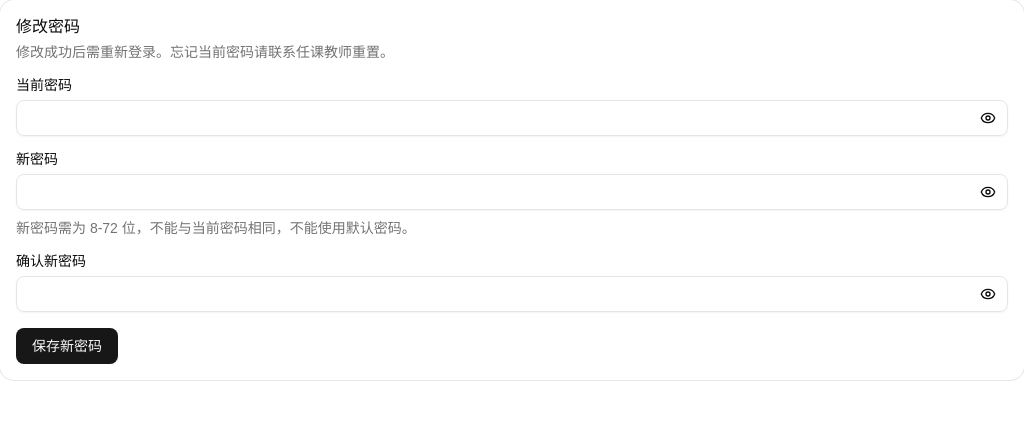
student PasswordChangeForm › hangs a 400 wrong current password and does not logout
In the password field labelled "当前密码": (512, 118) [16,100,1008,136], type "wrongpass"
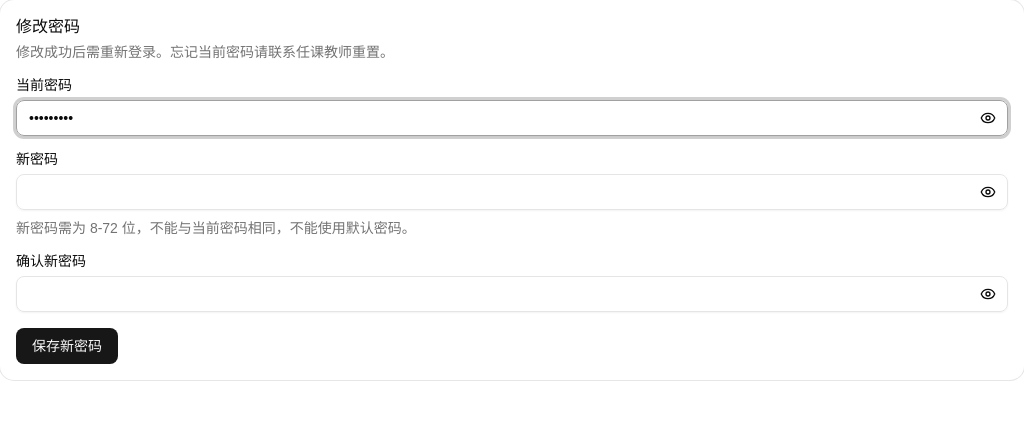
In the password field labelled "新密码": (512, 192) [16,174,1008,210], type "newpass12"
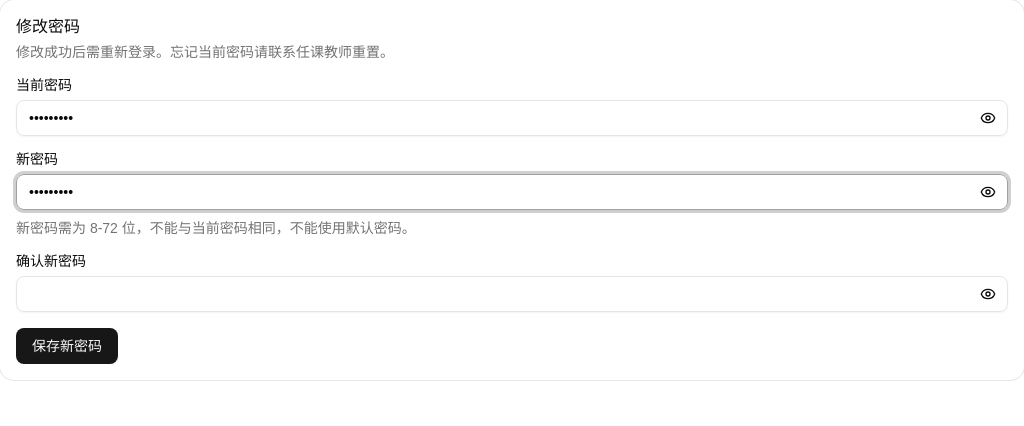
In the password field labelled "确认新密码": (512, 294) [16,276,1008,312], type "newpass12"
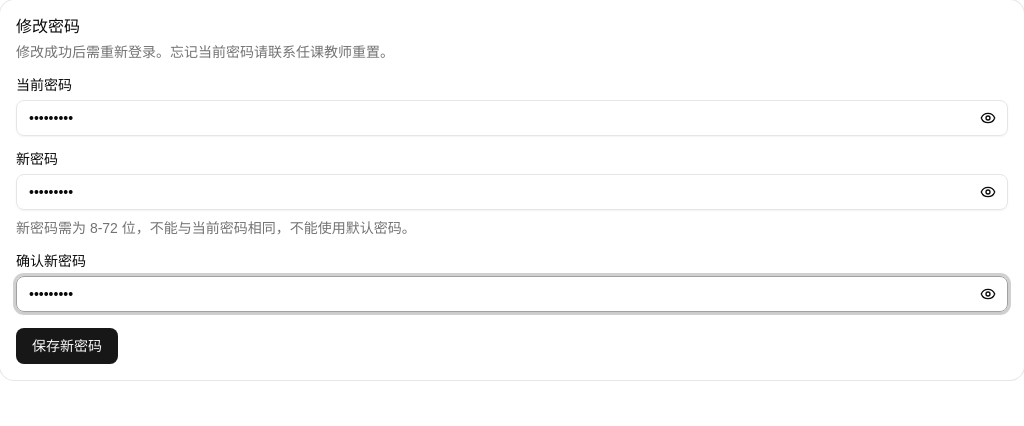
Click the button "保存新密码": (67, 346) [16,328,118,364]
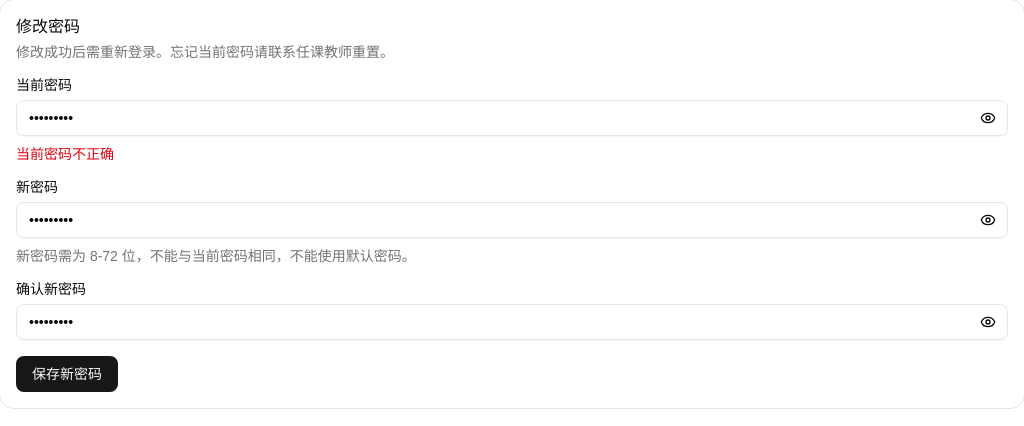
Expected: the text "当前密码不正确" is shown, [16,146,114,162]
